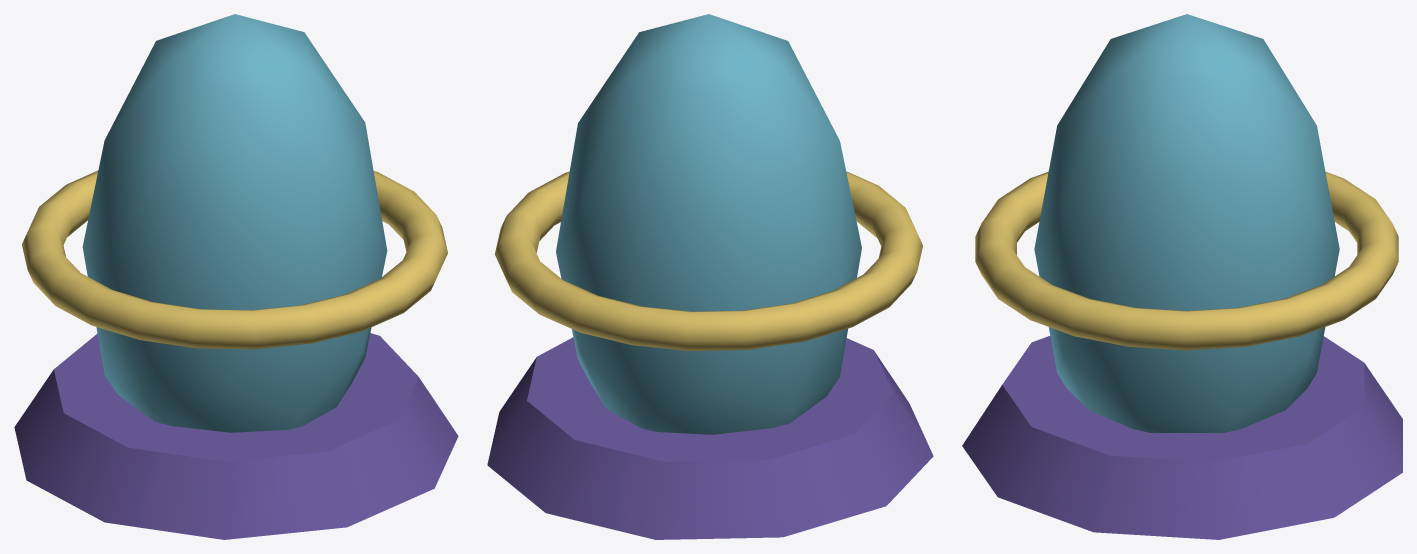
Rendered from rest_shrine.glb.
The picture shows the model from 3 angles, left to right: view 1: azimuth 30°, elevation 25°; view 2: azimuth 150°, elevation 25°; view 3: azimuth 270°, elevation 25°; orthographic projection.
Visible parts, largest first — view 1: rest_crystal, rest_base, rest_halo; view 2: rest_crystal, rest_base, rest_halo; view 3: rest_crystal, rest_base, rest_halo.
Part boxes in pixels (x1,y1,x2,y2): rest_crystal: (82, 14, 387, 432); rest_base: (14, 333, 458, 539); rest_halo: (22, 170, 447, 349); rest_crystal: (556, 14, 861, 434); rest_base: (487, 337, 933, 539); rest_halo: (495, 171, 922, 350); rest_crystal: (1034, 14, 1339, 432); rest_base: (962, 336, 1402, 539); rest_halo: (975, 171, 1398, 350).
Size of what is drawn, in the model's own units: 2.77 by 3.23 by 2.74.
